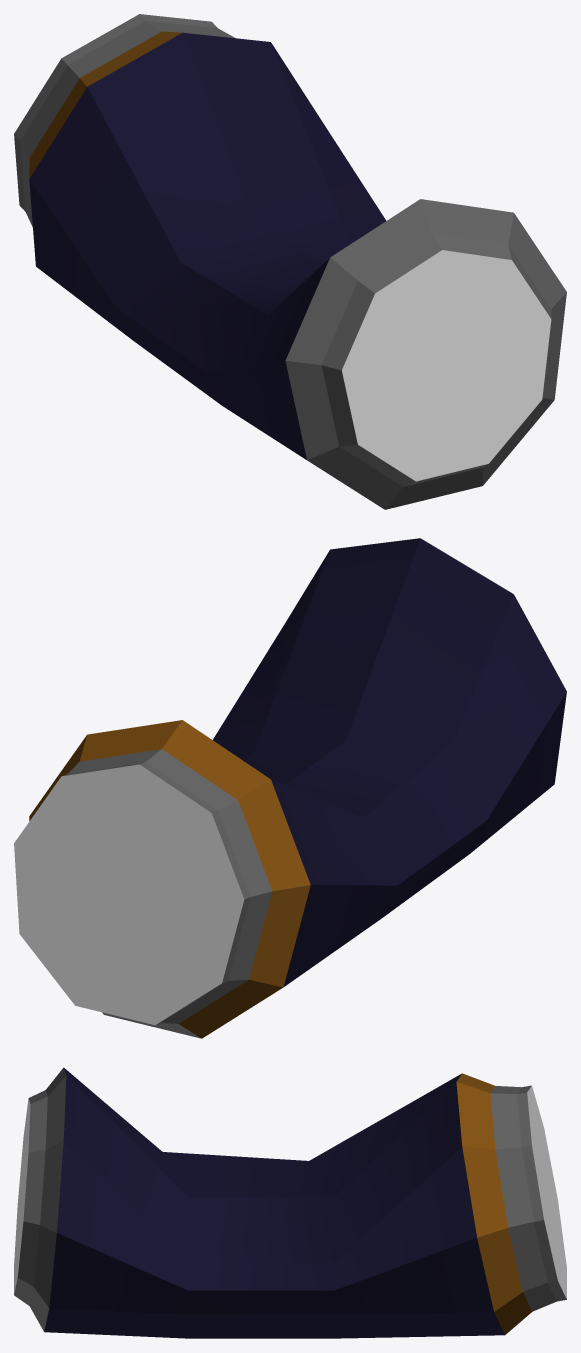
File: Can.glb
3 views of the same model, one above another, from view 1: azimuth 30°, elevation 25°; view 2: azimuth 150°, elevation 25°; view 3: azimuth 270°, elevation 25° (orthographic). The views are drawn at different scales.
Visible parts, largest first — view 1: Soda; view 2: Soda; view 3: Soda.
Boxes of the visible parts, x1=… form: Soda: x1=14, y1=14, x2=566, y2=509; Soda: x1=14, y1=538, x2=566, y2=1038; Soda: x1=14, y1=1067, x2=566, y2=1338.
Bounding box in the file's own units: 0.0971 × 0.0979 × 0.2014.
